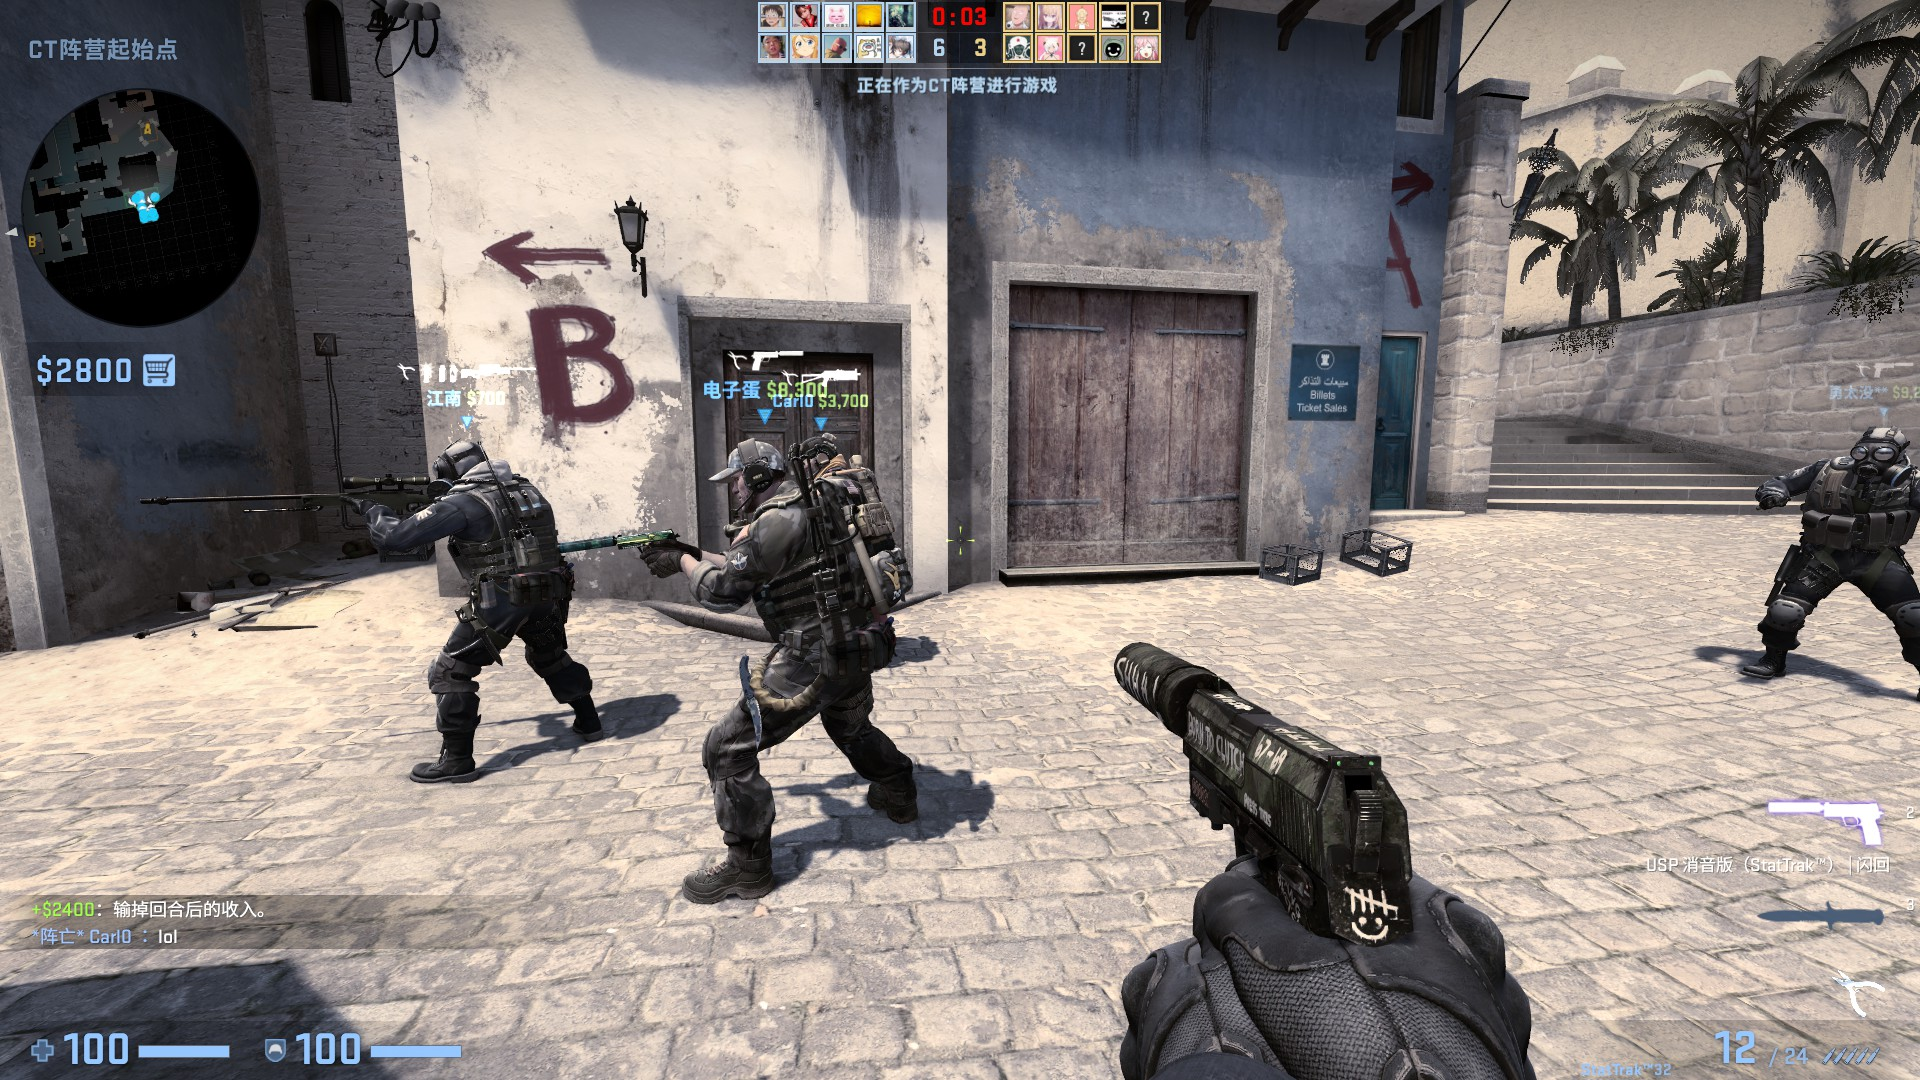head: (723, 438, 793, 502), (1847, 424, 1912, 483), (431, 434, 487, 489), (797, 431, 845, 482)
